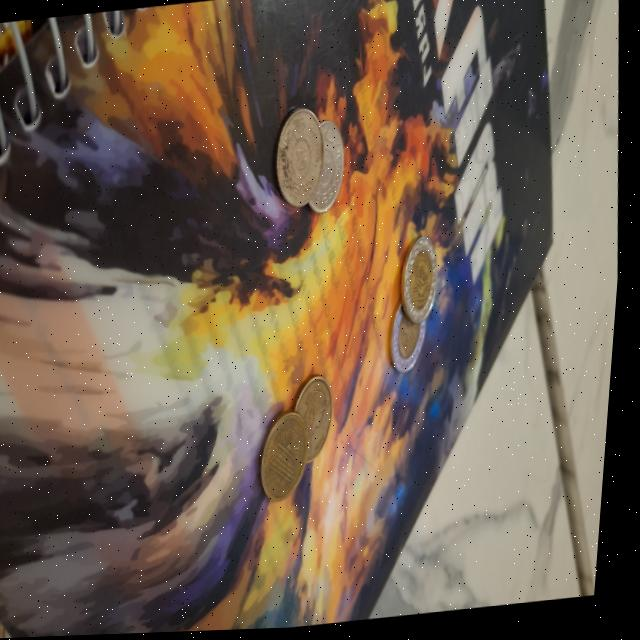Half Pound: (261, 402, 321, 509), (292, 377, 346, 470)
One Pound: (397, 234, 449, 328), (385, 309, 442, 382)
quarter pound: (270, 100, 334, 216), (302, 109, 360, 219)
